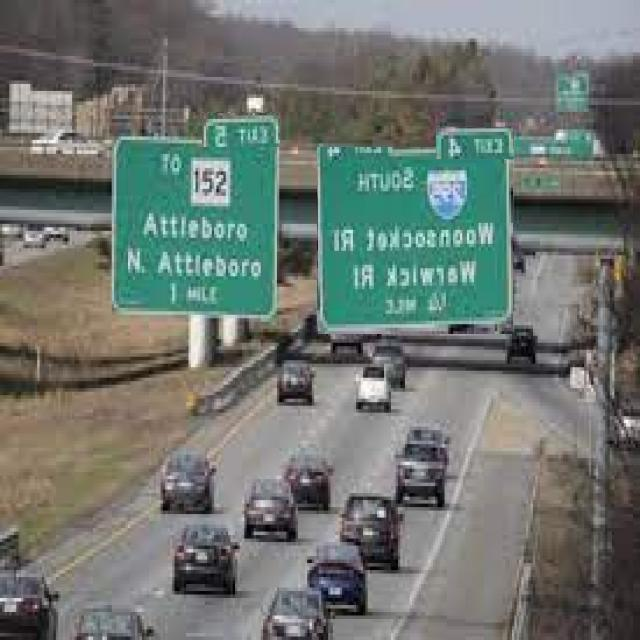street-signs: (317, 148, 513, 334), (111, 137, 279, 322), (203, 114, 280, 147), (437, 127, 514, 159), (554, 70, 592, 114)
